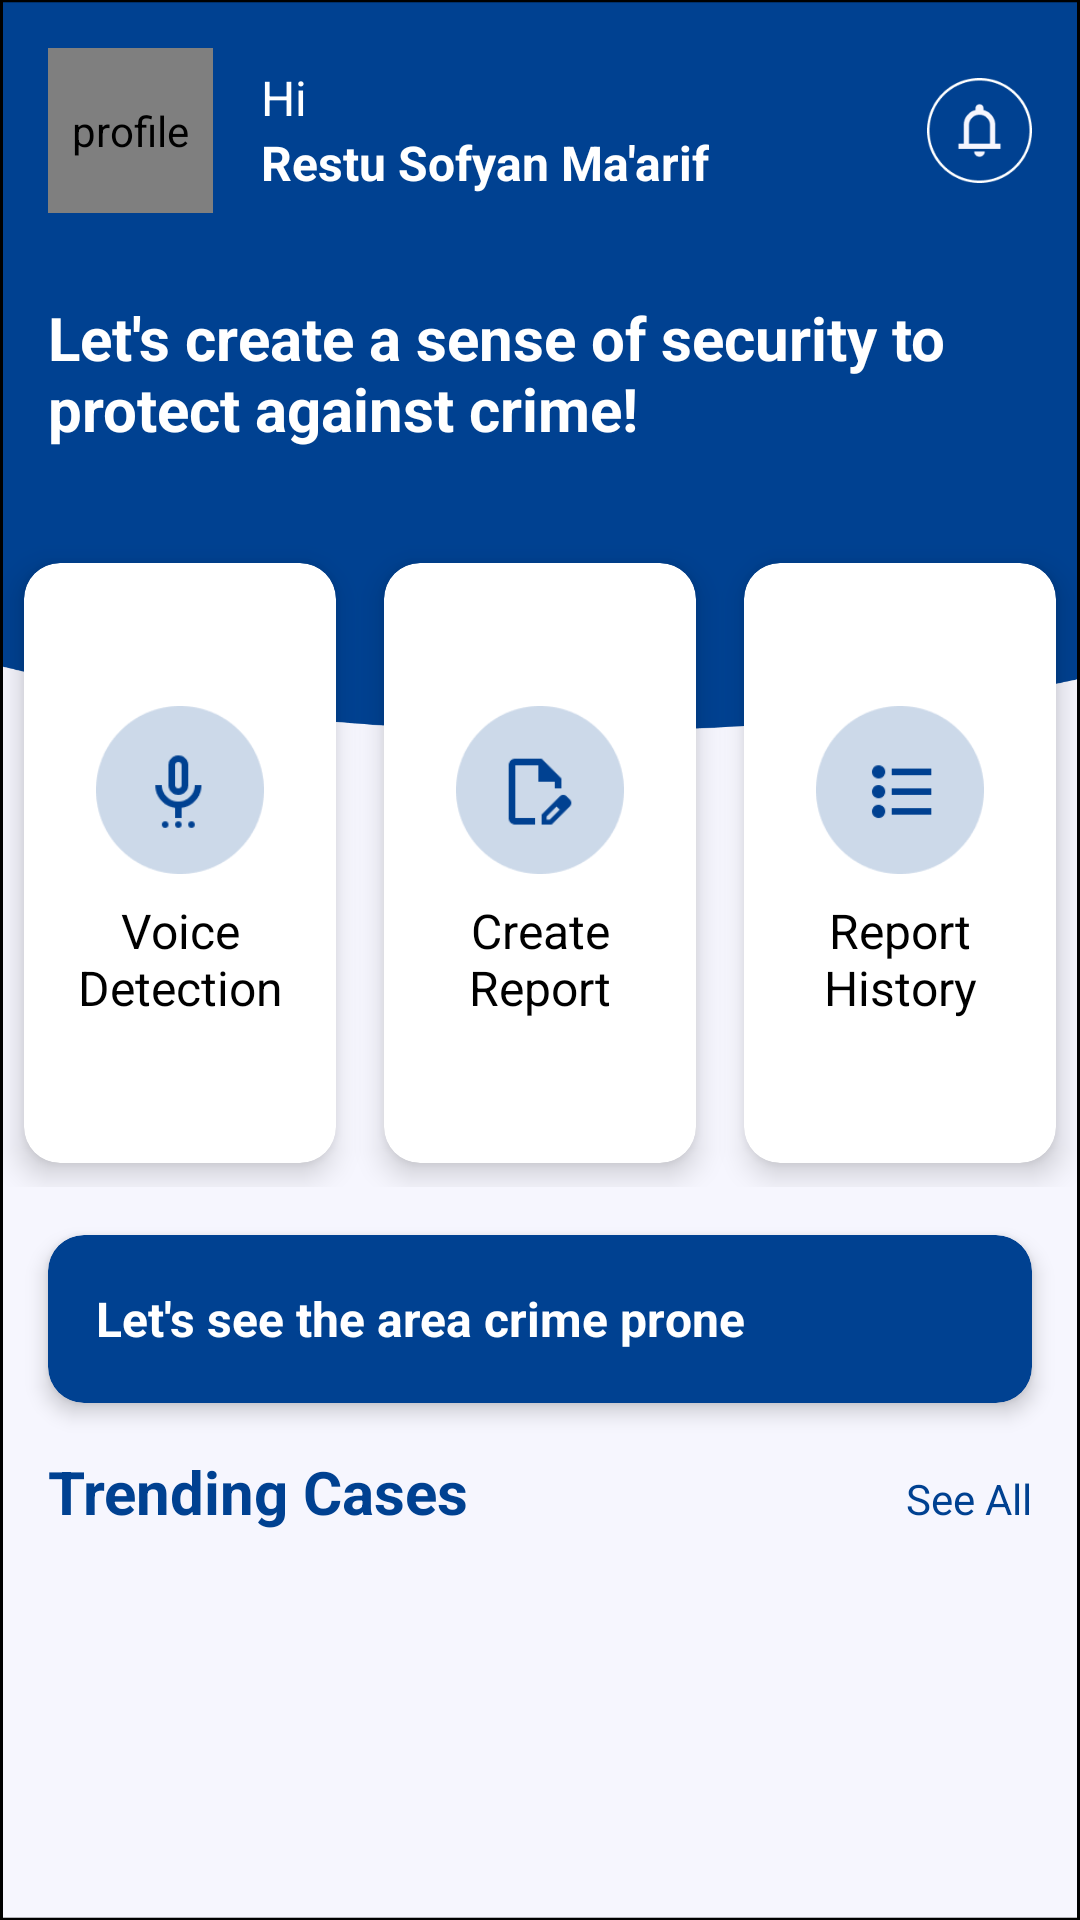

Screen size 1080*1920. Icon name, then its box in pixels as Rect(x1, y1, x2, y2):
Notifications: Rect(927, 78, 1032, 183)
